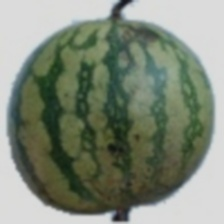watermelon: (33, 25, 216, 192)
